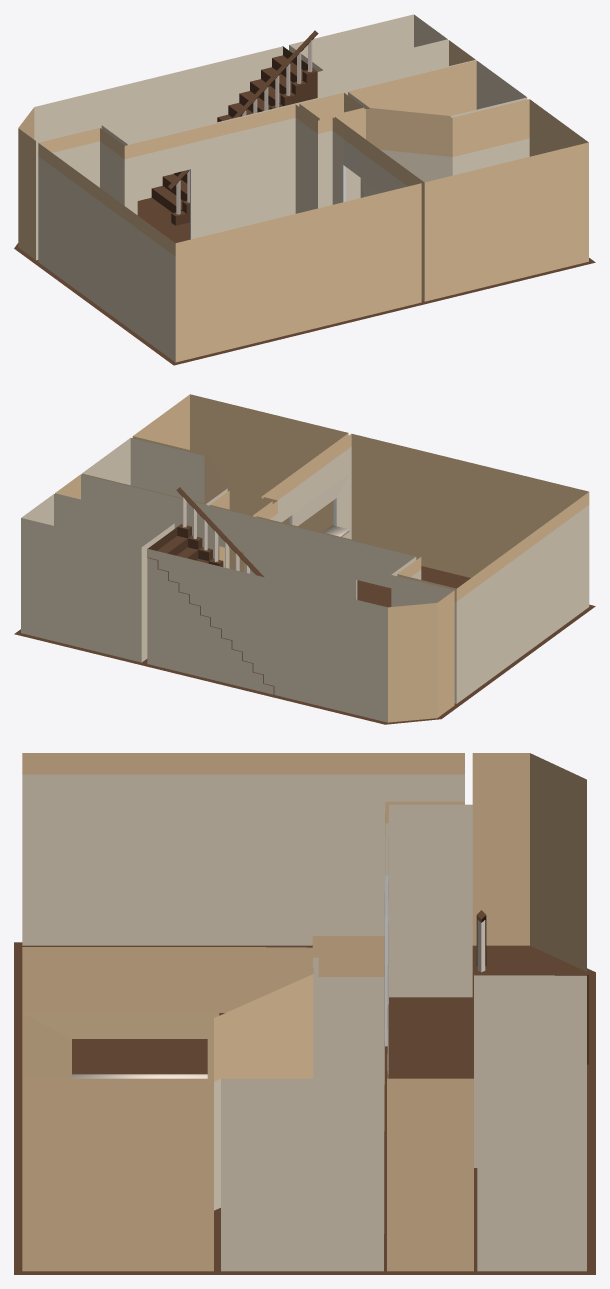
The model's file is Walls 1st floor.fbx.
The picture shows the model from 3 angles, top to bottom: view 1: azimuth 30°, elevation 25°; view 2: azimuth 150°, elevation 25°; view 3: azimuth 270°, elevation 25°; orthographic projection. The views are drawn at different scales.
Visible parts, largest first — view 1: Cylinder.009, walls 1st.002, walls 1st.001, walls 1st.003; view 2: Cylinder.009, walls 1st.001, walls 1st.002, walls 1st.003; view 3: Cylinder.009, walls 1st.002, walls 1st.001, walls 1st.003.
Part boxes in pixels (<box>): Cylinder.009: <box>14,30,595,365</box>; walls 1st.002: <box>348,60,527,117</box>; walls 1st.001: <box>289,14,447,71</box>; walls 1st.003: <box>299,92,364,120</box>; Cylinder.009: <box>14,394,595,724</box>; walls 1st.001: <box>21,494,174,662</box>; walls 1st.002: <box>82,438,227,505</box>; walls 1st.003: <box>210,490,272,571</box>; Cylinder.009: <box>14,753,595,1274</box>; walls 1st.002: <box>221,977,384,1271</box>; walls 1st.001: <box>477,980,586,1271</box>; walls 1st.003: <box>318,938,384,1130</box>.
Bounding box in the file's own units: 1190 × 430 × 881.
